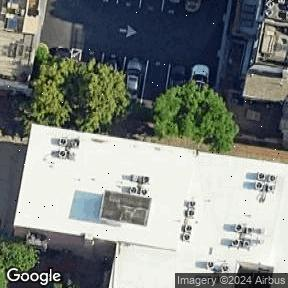vegetation: (24, 45, 138, 141), (147, 74, 246, 156), (0, 242, 38, 288)
